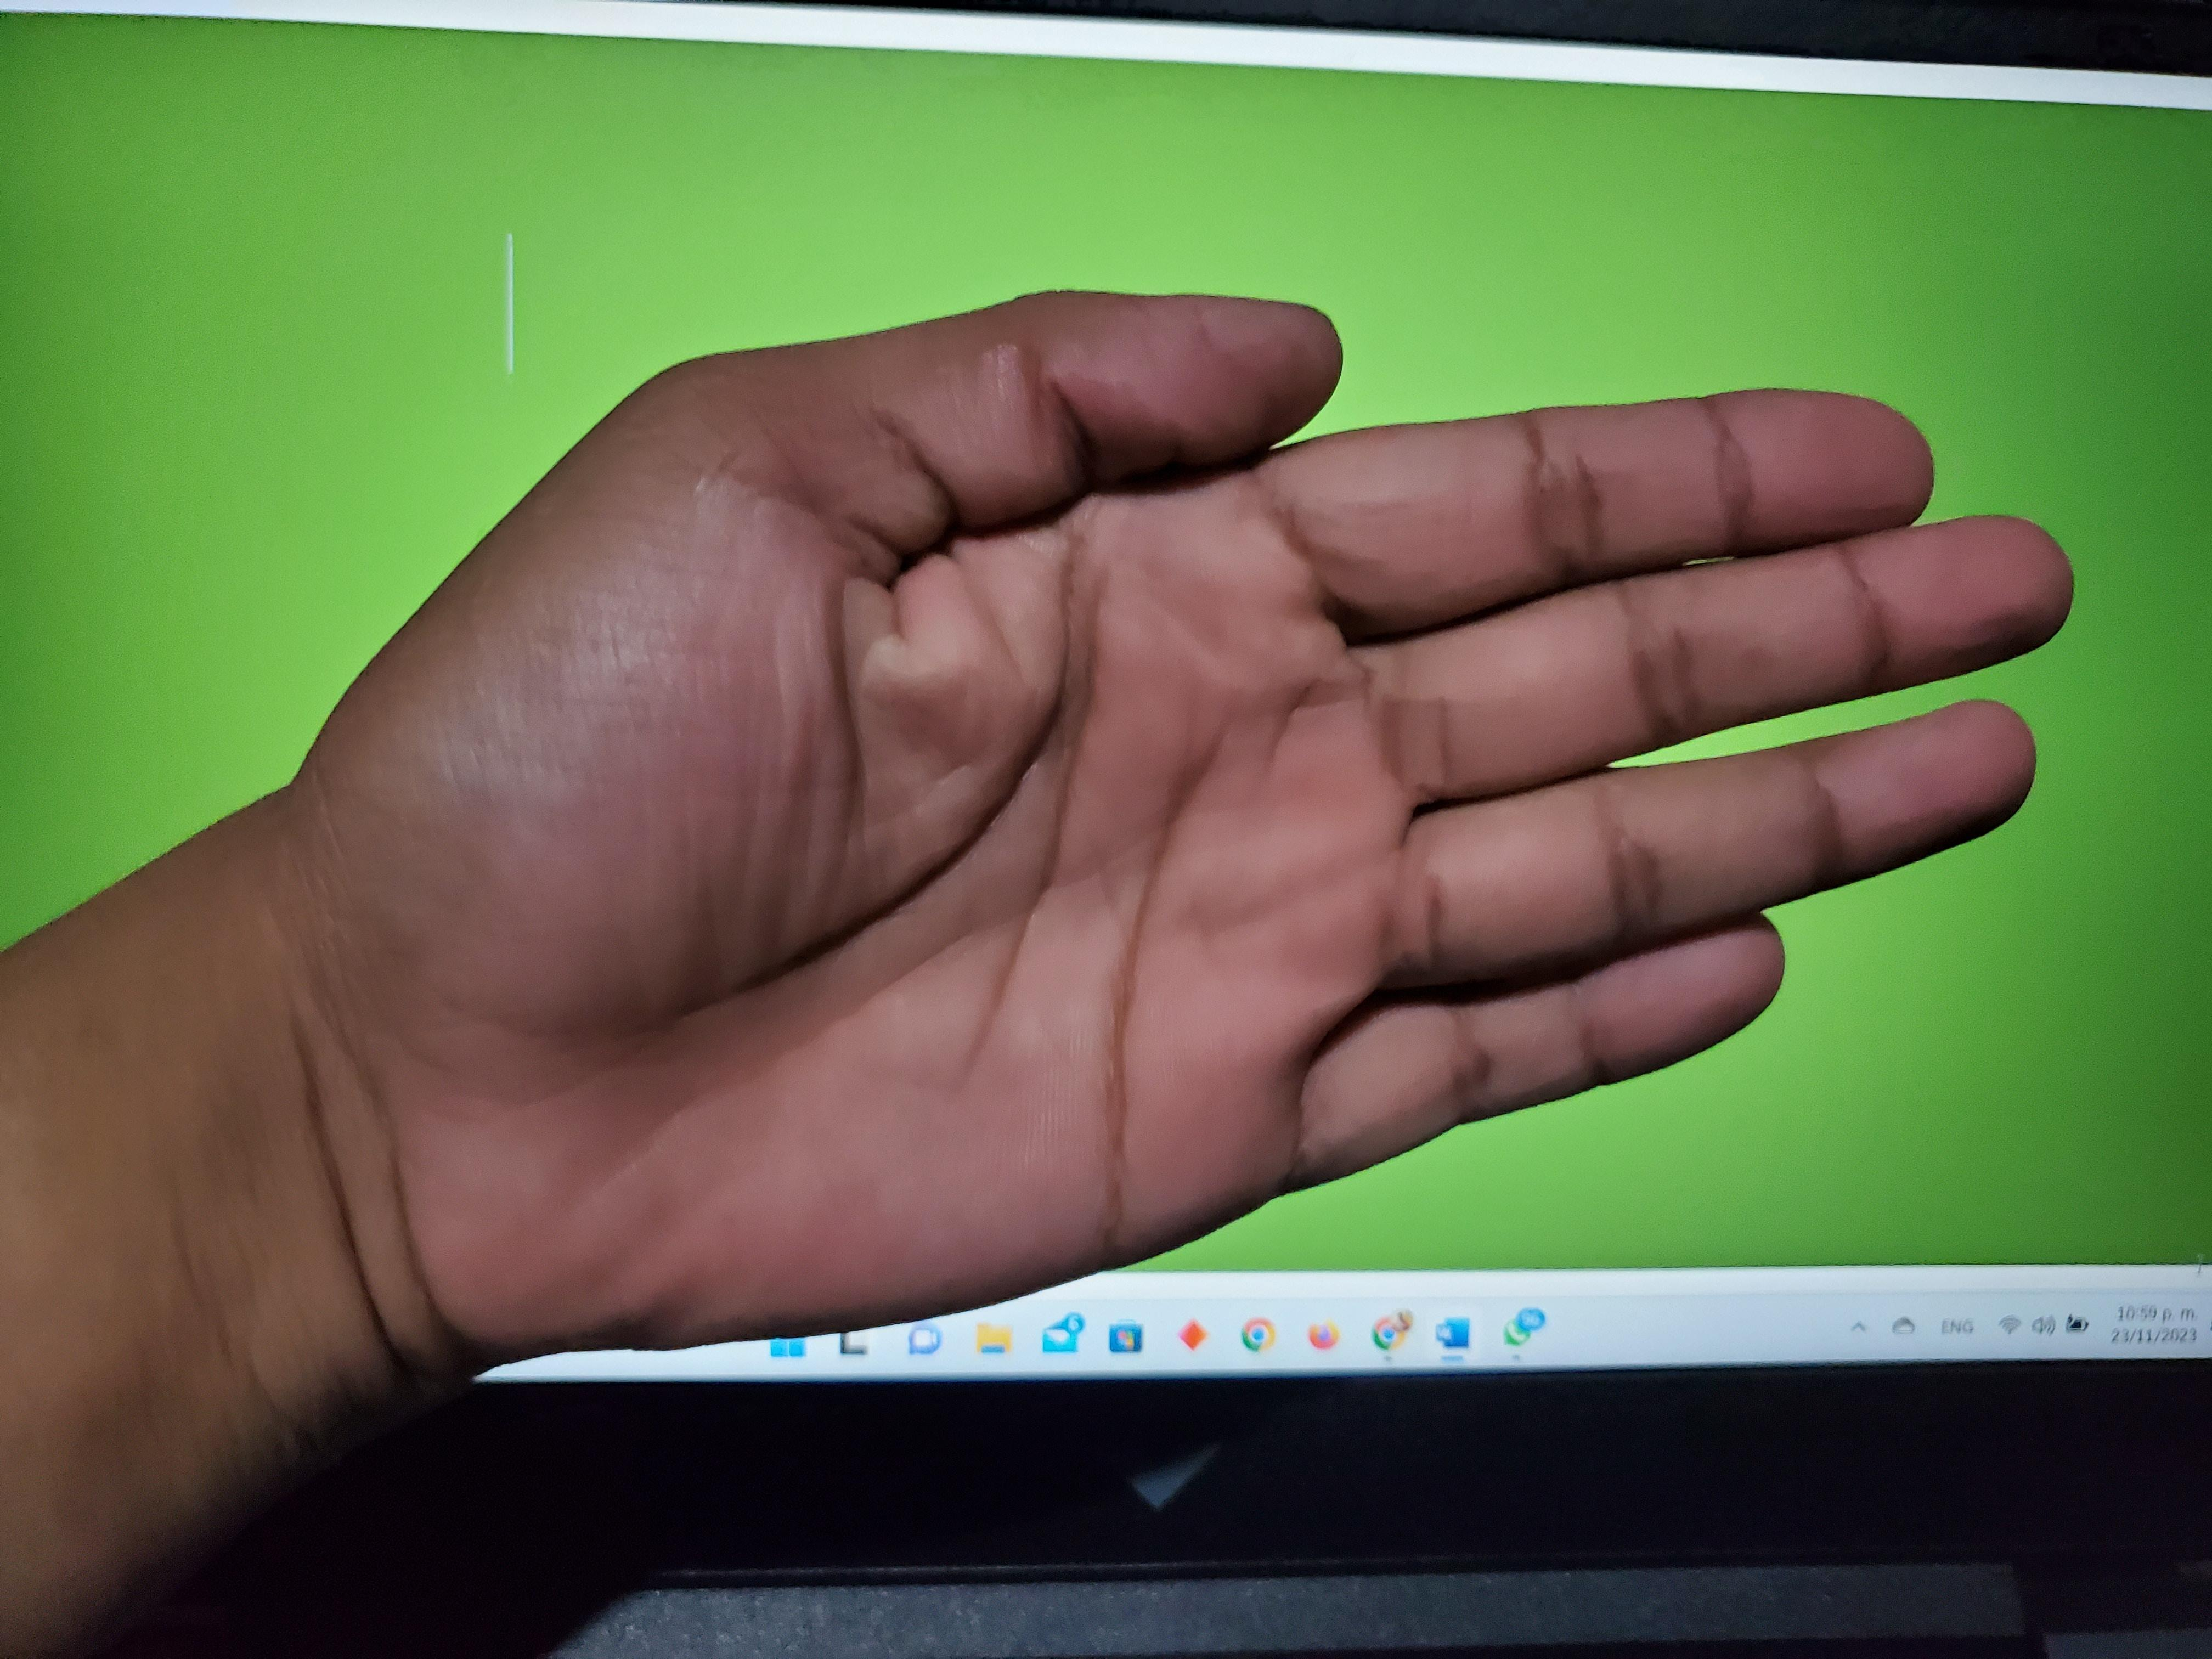Paper: (2, 17, 2125, 1549)
